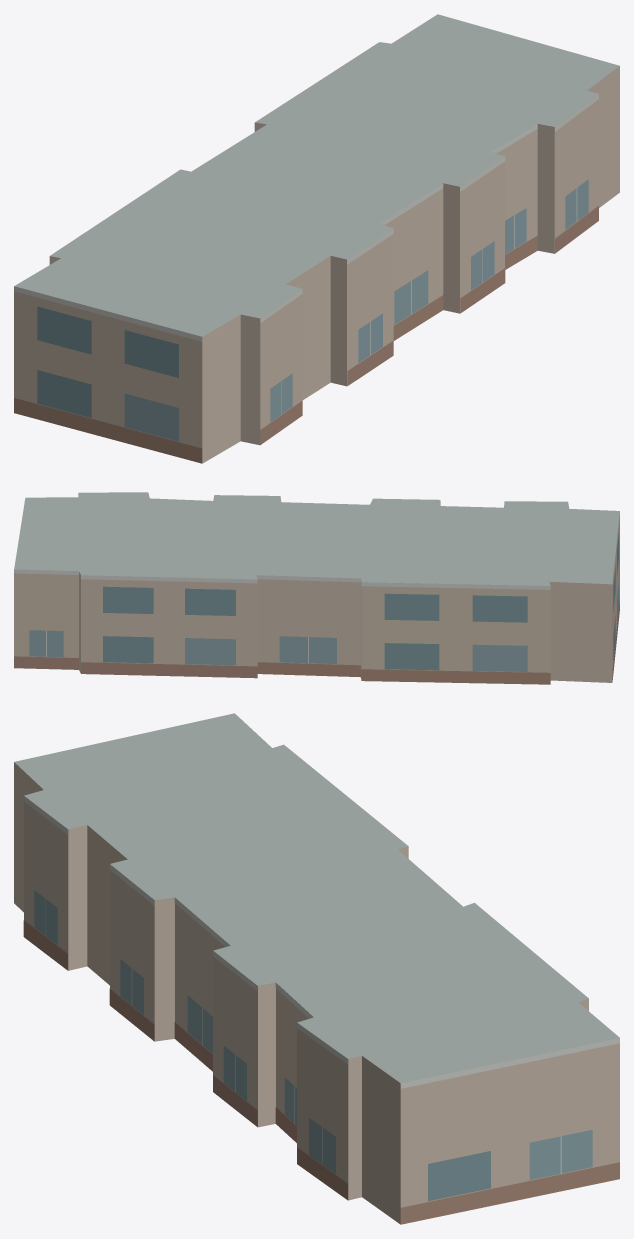
Rendered from survey-upis-32742250.glb.
3 renders of one model, top to bottom at view 1: azimuth 30°, elevation 25°; view 2: azimuth 150°, elevation 25°; view 3: azimuth 270°, elevation 25°, orthographic. The views are drawn at different scales.
Visible parts, largest first — view 1: survey-upis-32742250.tmp; view 2: survey-upis-32742250.tmp; view 3: survey-upis-32742250.tmp.
Part boxes in pixels (bbox=[...]): survey-upis-32742250.tmp: bbox=[14, 14, 619, 463]; survey-upis-32742250.tmp: bbox=[14, 492, 619, 684]; survey-upis-32742250.tmp: bbox=[14, 713, 619, 1224].
Bounding box in the file's own units: 34.24 × 6.1 × 23.69.
